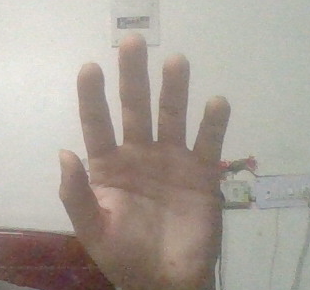move: (43, 32, 235, 276)
